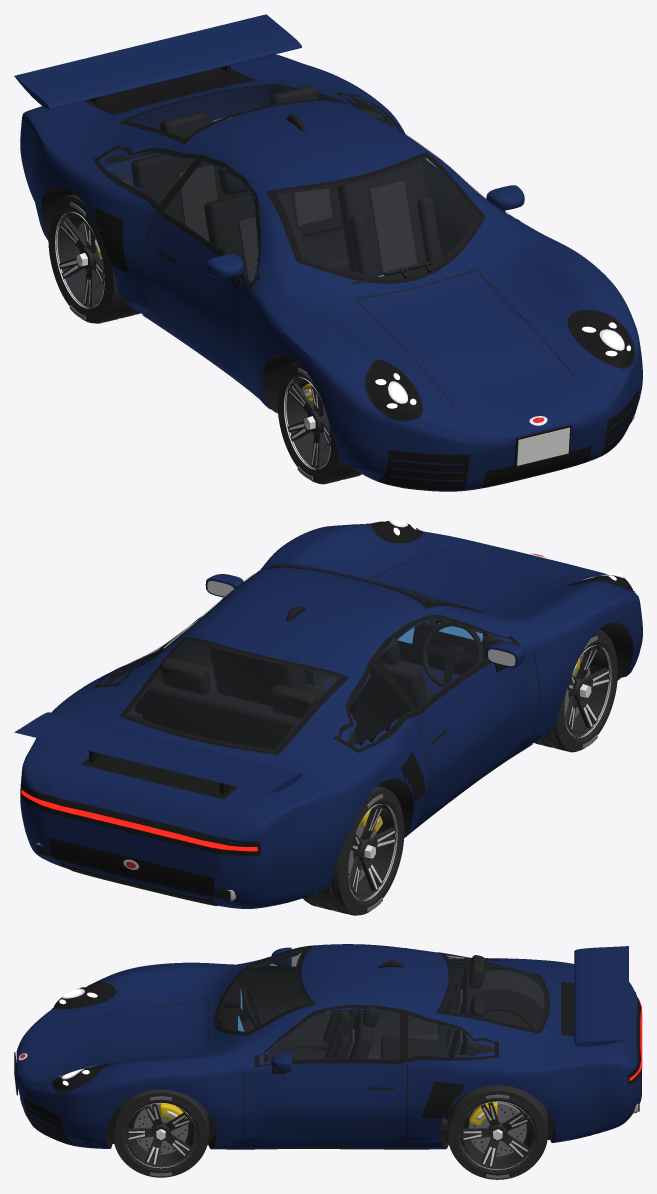
File: turbos.glb
The picture shows the model from 3 angles, top to bottom: view 1: azimuth 30°, elevation 25°; view 2: azimuth 150°, elevation 25°; view 3: azimuth 270°, elevation 25°; orthographic projection. The views are drawn at different scales.
Parts seen in each view (by area): view 1: Body, Wheel_RR, Wheel_FR; view 2: Body, Wheel_RR, Wheel_FR; view 3: Body, Wheel_RL, Wheel_FL, Wheel_RR.
Part boxes in pixels (x1,y1,x2,y2): Body: (14, 14, 642, 491); Wheel_RR: (48, 194, 140, 323); Wheel_FR: (277, 361, 361, 484); Body: (14, 520, 642, 908); Wheel_RR: (303, 786, 404, 915); Wheel_FR: (534, 629, 617, 752); Body: (14, 944, 642, 1149); Wheel_RL: (447, 1085, 547, 1179); Wheel_FL: (113, 1089, 208, 1177); Wheel_RR: (485, 1000, 539, 1029).
Size of the model in its own units: 2.01 by 1.34 by 4.6.
